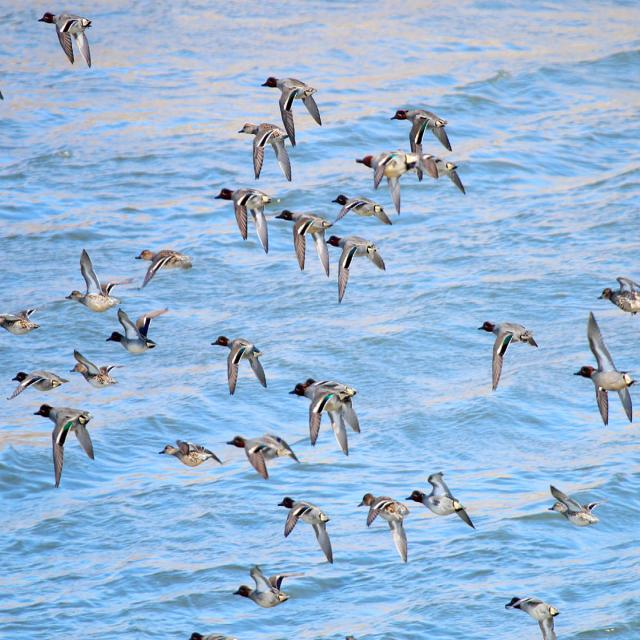bird: (573, 314, 640, 426), (288, 380, 362, 456), (35, 405, 97, 489), (475, 320, 541, 396), (258, 77, 324, 149), (325, 235, 386, 306), (66, 250, 128, 317), (358, 491, 416, 560), (216, 188, 280, 250), (279, 500, 336, 566), (275, 207, 332, 272), (356, 149, 419, 207), (208, 338, 270, 396), (414, 472, 474, 530), (39, 10, 96, 70), (235, 126, 292, 182), (230, 436, 299, 480), (392, 113, 457, 157), (106, 306, 165, 352), (134, 246, 193, 290), (235, 568, 294, 611), (506, 598, 564, 640), (596, 277, 640, 329), (548, 485, 605, 525), (156, 440, 222, 473), (332, 192, 396, 226), (68, 350, 121, 388), (9, 368, 69, 399), (0, 304, 41, 338)
